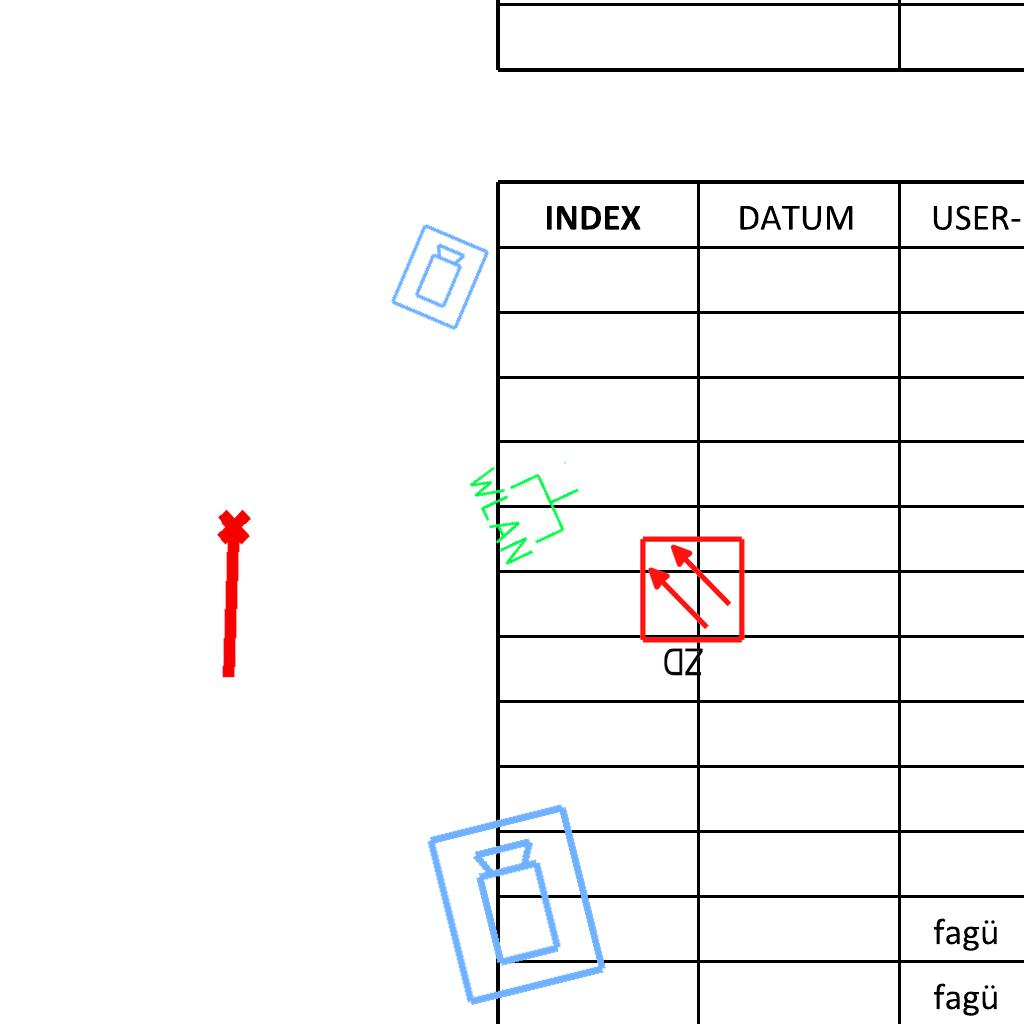ASR_Ansaugoeffnung: (207, 506, 261, 684)
KFO_Kamera_mit_Festobjektiv: (421, 798, 615, 1012), (387, 220, 494, 335)
WLAN: (460, 431, 600, 572)
ZD_Melder_in_Zwischendecke_mit_Revisionsoeffnung_mind_40_x_40_cm: (637, 534, 751, 683)
